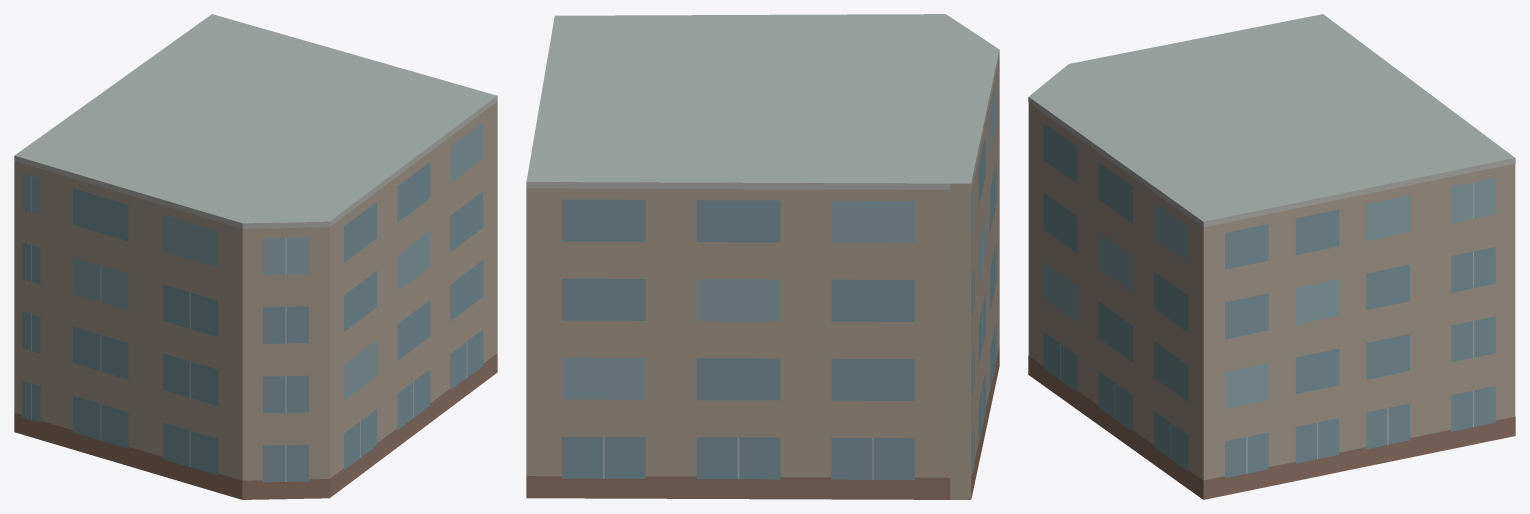
File: survey-upis-32826544.glb
3 views of the same model, side by side, from view 1: azimuth 30°, elevation 25°; view 2: azimuth 150°, elevation 25°; view 3: azimuth 270°, elevation 25° (orthographic). The views are drawn at different scales.
Visible parts, largest first — view 1: survey-upis-32826544.tmp; view 2: survey-upis-32826544.tmp; view 3: survey-upis-32826544.tmp.
Part boxes in pixels (bbox=[...]): survey-upis-32826544.tmp: bbox=[14, 14, 497, 499]; survey-upis-32826544.tmp: bbox=[526, 14, 999, 499]; survey-upis-32826544.tmp: bbox=[1028, 14, 1515, 499].
Bounding box in the file's own units: 19.41 × 12.1 × 19.21.
